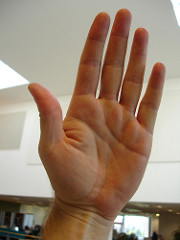palm: (60, 99, 141, 217)
